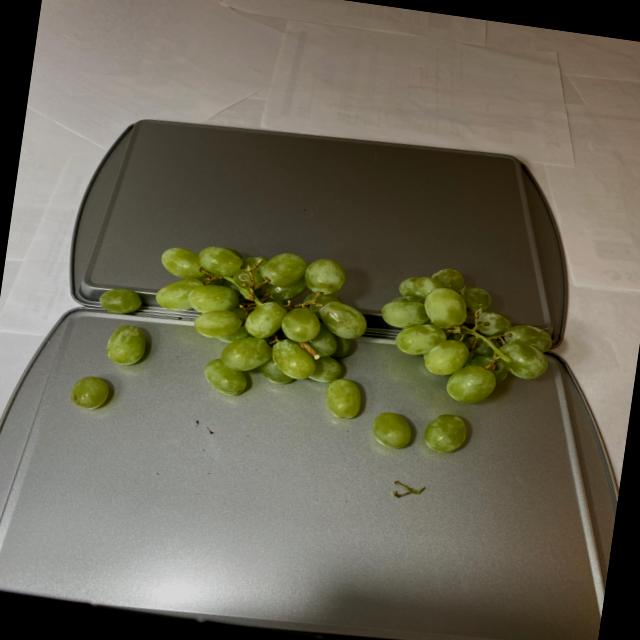grapes: (68, 222, 560, 476)
